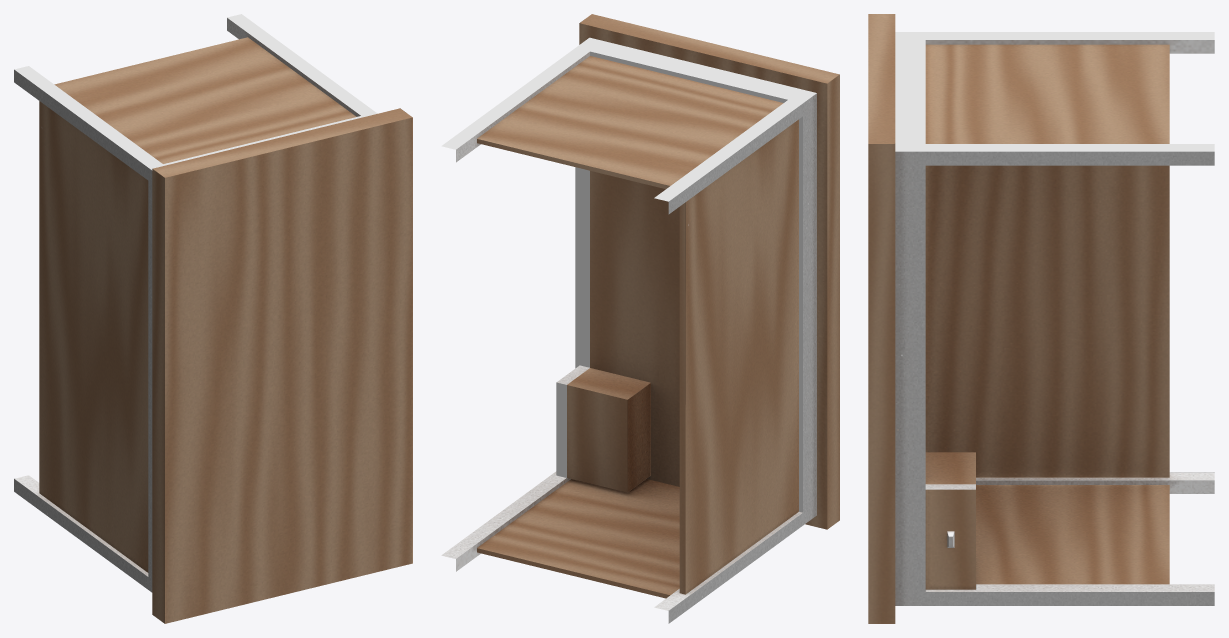
The model's file is office_desk.glb.
The picture shows the model from 3 angles, left to right: view 1: azimuth 30°, elevation 25°; view 2: azimuth 150°, elevation 25°; view 3: azimuth 270°, elevation 25°; orthographic projection. The views are drawn at different scales.
Parts seen in each view (by area): view 1: Desk_Desk_Cube; view 2: Desk_Desk_Cube; view 3: Desk_Desk_Cube.
Boxes of the visible parts, box(x1,y1,x2,y2) form: Desk_Desk_Cube: box(14, 14, 412, 623); Desk_Desk_Cube: box(441, 14, 839, 623); Desk_Desk_Cube: box(868, 14, 1214, 623).
Size of the model in its own units: 0.4906 by 0.8437 by 0.552.
1 material, 1 textured.
